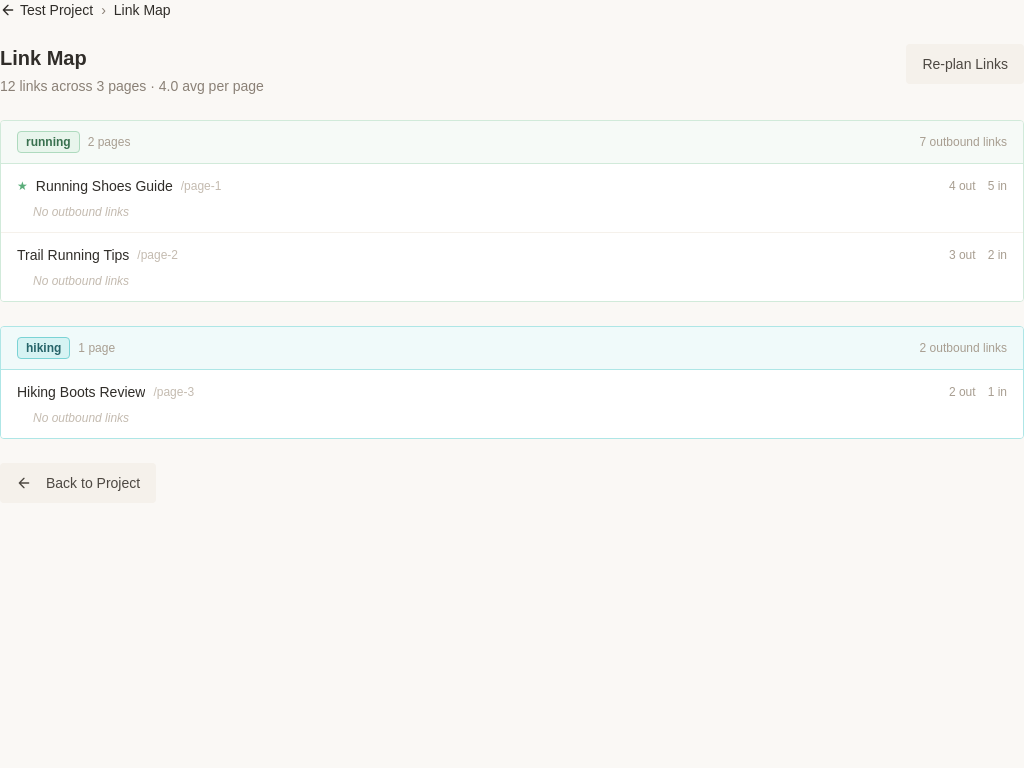
Test: OnboardingLinkMapPage › re-plan › opens confirmation dialog on Re-plan click
Click the button "Re-plan Links" at (965, 64), box [906,44,1023,84]
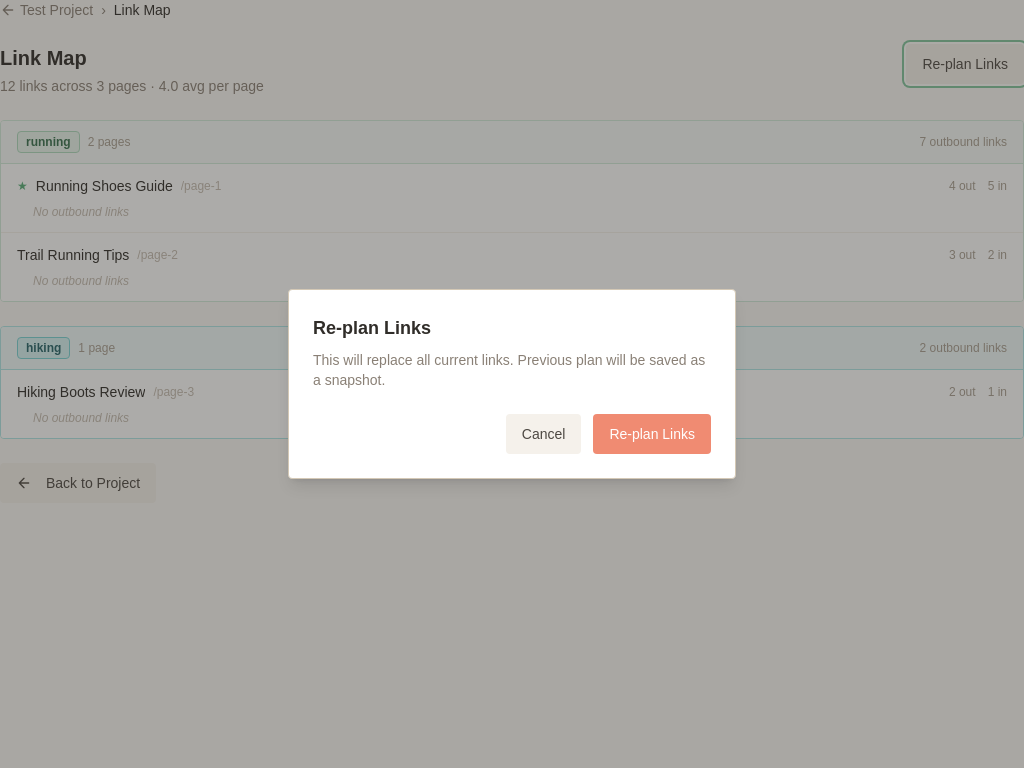
Now the text "This will replace all current links. Previous plan will be saved as a snapshot." is shown, box [313,350,711,390]
